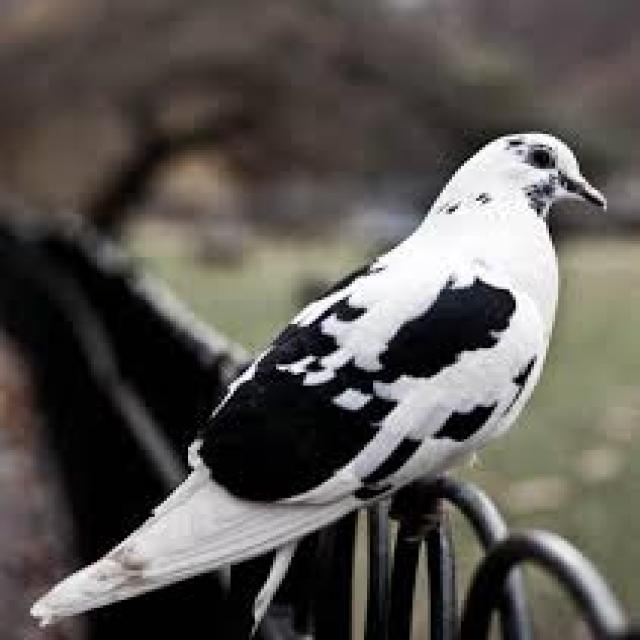pigeon: (30, 93, 603, 640)
